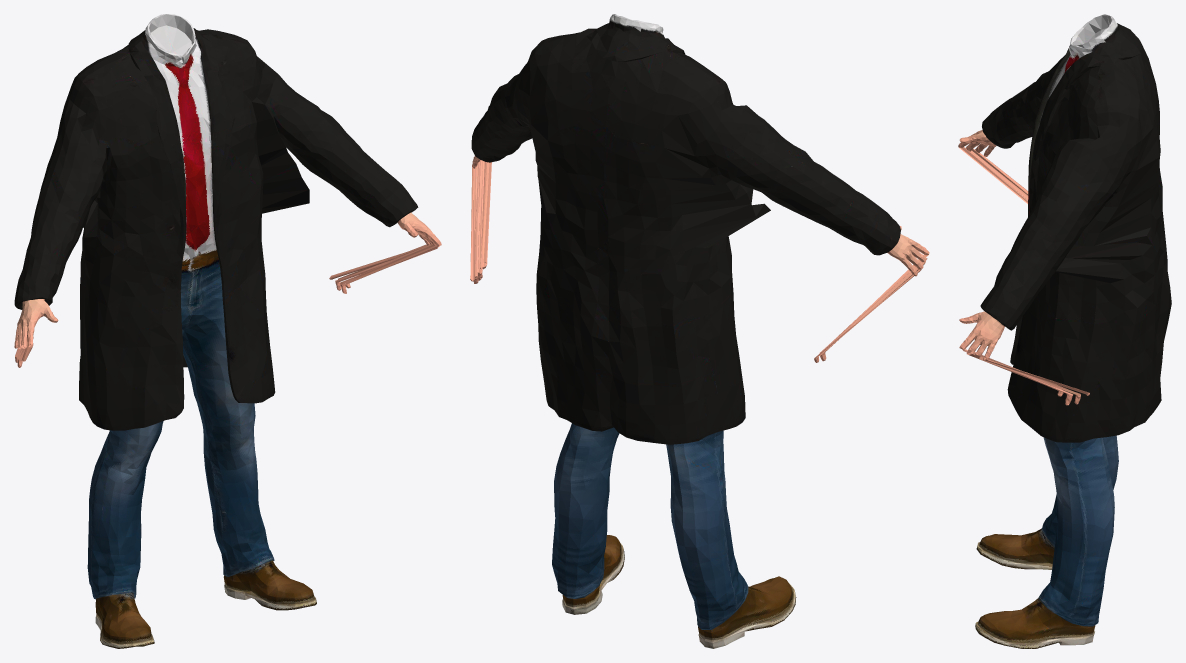
Rendered from ewm_t2conspiracy_outfit.glb.
The picture shows the model from 3 angles, left to right: view 1: azimuth 30°, elevation 25°; view 2: azimuth 150°, elevation 25°; view 3: azimuth 270°, elevation 25°; orthographic projection. The views are drawn at different scales.
Parts seen in each view (by area): view 1: ewm_t2conspiracy_outfit; view 2: ewm_t2conspiracy_outfit; view 3: ewm_t2conspiracy_outfit.
Boxes of the visible parts, <box> form: ewm_t2conspiracy_outfit: <box>14,14,441,648</box>; ewm_t2conspiracy_outfit: <box>470,14,929,648</box>; ewm_t2conspiracy_outfit: <box>958,14,1171,648</box>.
Bounding box in the file's own units: 1.27 × 1.69 × 0.5554.
Materials: 1 (1 with a texture image).
